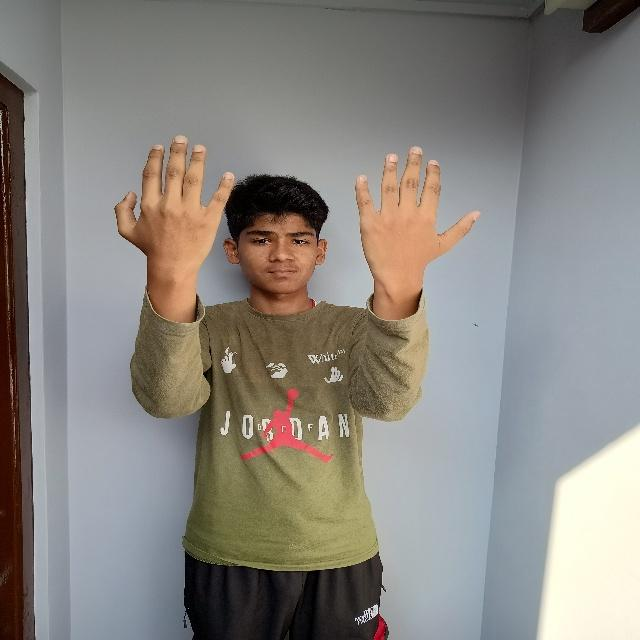Moutza: (342, 136, 491, 310), (109, 125, 237, 305)
